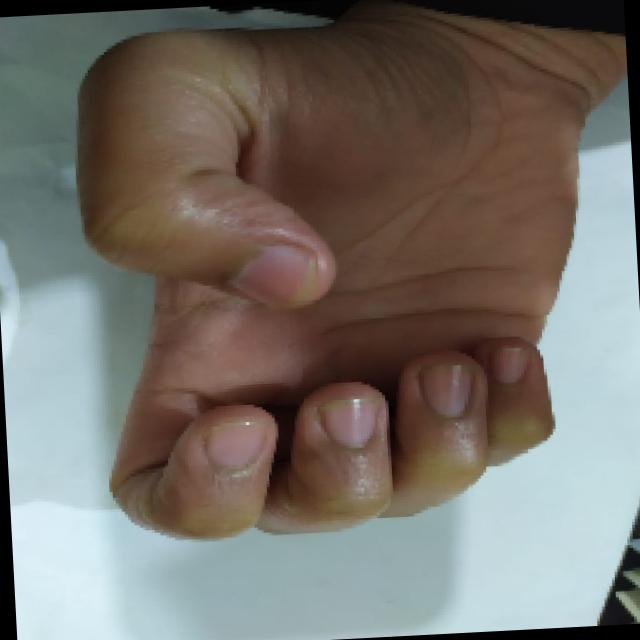Nail: (229, 244, 317, 306), (205, 420, 265, 469), (317, 398, 376, 447), (418, 363, 470, 417), (489, 345, 527, 382)
